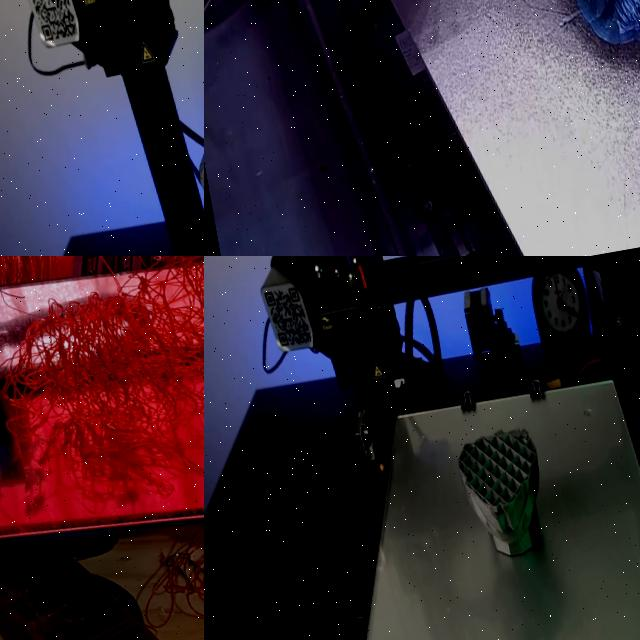spaghetti: (0, 256, 204, 527), (114, 514, 204, 640)
